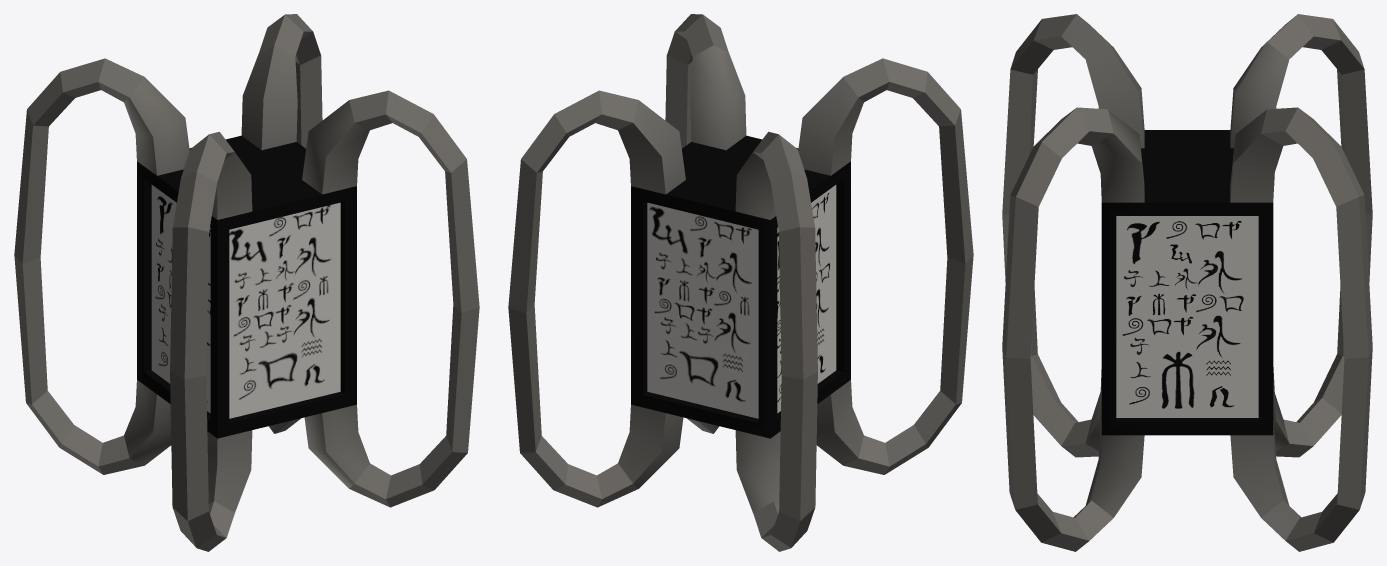
The model's file is Artifact_02.FBX.
The picture shows the model from 3 angles, left to right: view 1: azimuth 30°, elevation 25°; view 2: azimuth 150°, elevation 25°; view 3: azimuth 270°, elevation 25°; orthographic projection. The views are drawn at different scales.
Parts seen in each view (by area): view 1: Box001; view 2: Box001; view 3: Box001.
Part boxes in pixels (x1,y1,x2,y2): Box001: [14, 14, 479, 551]; Box001: [508, 14, 973, 551]; Box001: [1002, 14, 1372, 551].
Bounding box in the file's own units: 324 × 428 × 324.
